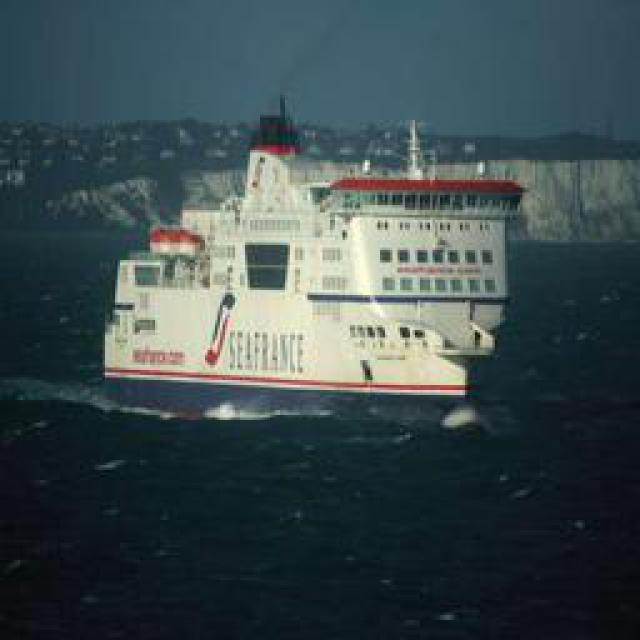Ship: (62, 135, 515, 420)
